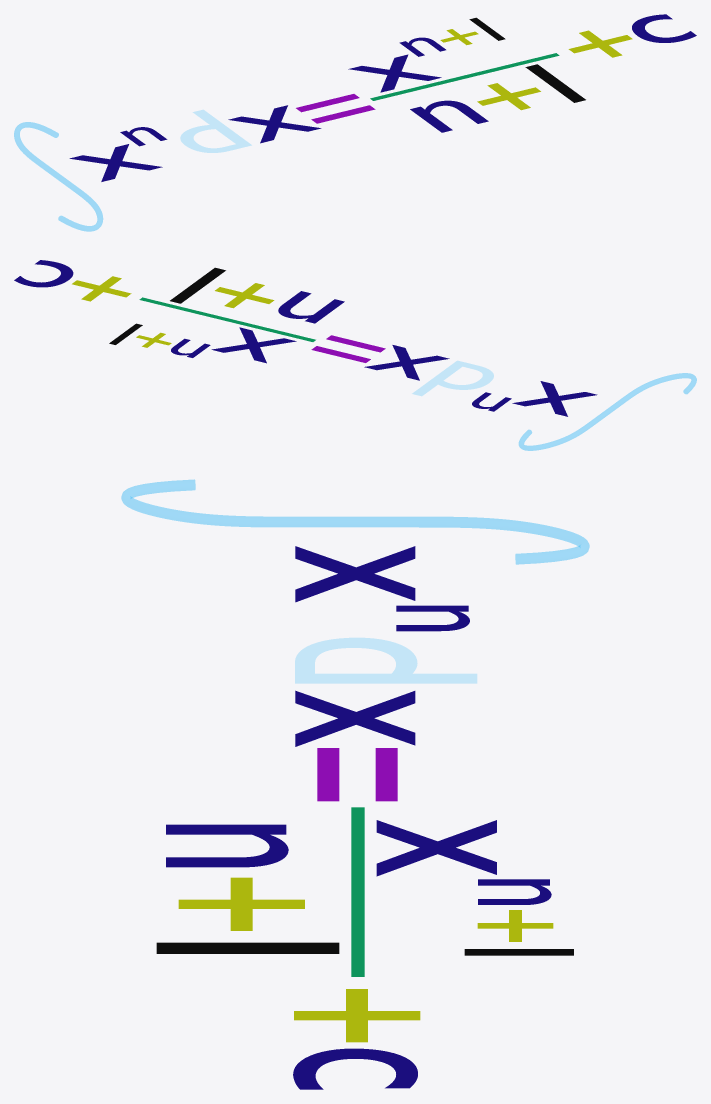
Rendered from intxlan.glb.
3 views of the same model, one above another, from view 1: azimuth 30°, elevation 25°; view 2: azimuth 150°, elevation 25°; view 3: azimuth 270°, elevation 25° (orthographic). The views are drawn at different scales.
Parts seen in each view (by area): view 1: int din x la n dx; view 2: int din x la n dx; view 3: int din x la n dx.
Part boxes in pixels (x1,y1,x2,y2): int din x la n dx: (14, 14, 696, 231); int din x la n dx: (14, 260, 696, 450); int din x la n dx: (121, 479, 589, 1089).
Bounding box in the file's own units: 5.36 × 0.0401 × 1.75.
